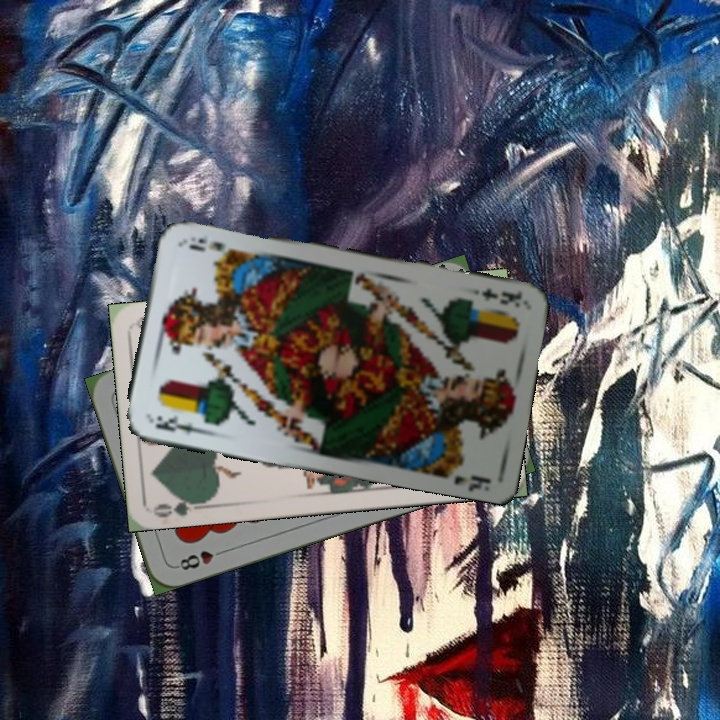EK: (464, 284, 525, 310), (147, 411, 206, 437)
GO: (151, 492, 211, 521)
H8: (172, 545, 229, 573)
